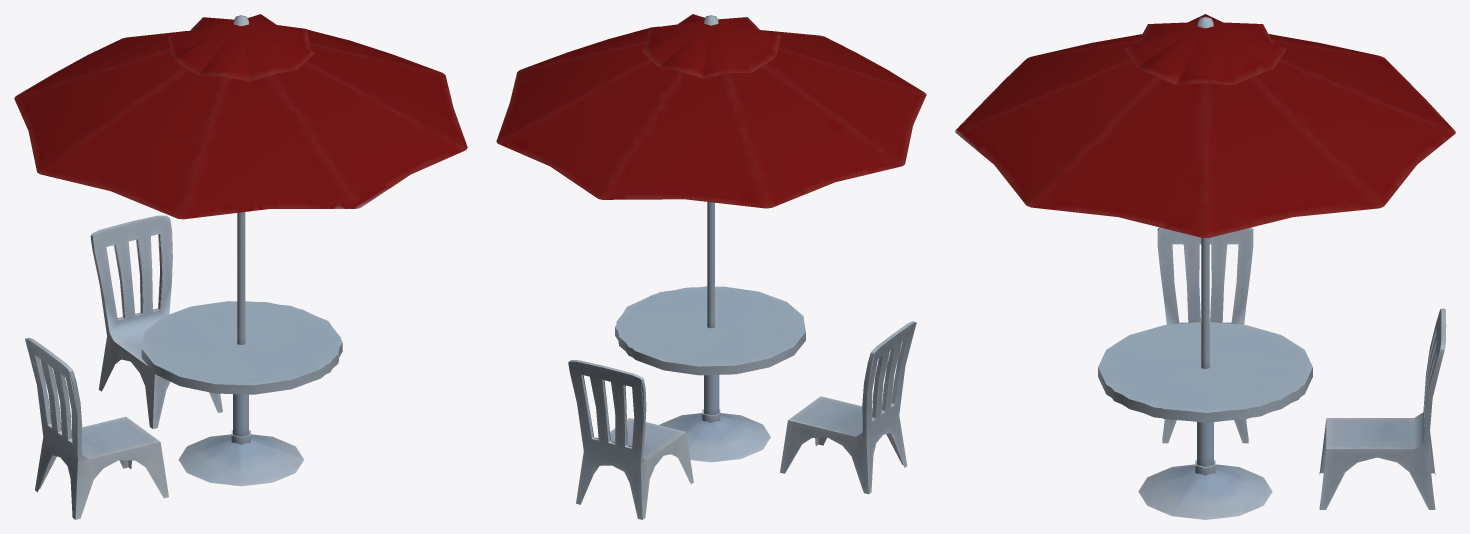
The model's file is objects_un_dlc2_table01.gltf.
The picture shows the model from 3 angles, left to right: view 1: azimuth 30°, elevation 25°; view 2: azimuth 150°, elevation 25°; view 3: azimuth 270°, elevation 25°; orthographic projection. The views are drawn at different scales.
Visible parts, largest first — view 1: um_objects_un_dlc2_table01_model_lod0Shape:objects_un_dlc2_t (×2), um_objects_un_dlc2_table01_model_lod1Shape:objects_un_dlc2_t (×2), um_objects_un_dlc2_table01_model_lod2Shape:objects_un_dlc2_t; view 2: um_objects_un_dlc2_table01_model_lod0Shape:objects_un_dlc2_t (×2), um_objects_un_dlc2_table01_model_lod1Shape:objects_un_dlc2_t (×2), um_objects_un_dlc2_table01_model_lod2Shape:objects_un_dlc2_t; view 3: um_objects_un_dlc2_table01_model_lod0Shape:objects_un_dlc2_t (×2), um_objects_un_dlc2_table01_model_lod1Shape:objects_un_dlc2_t (×2), um_objects_un_dlc2_table01_model_lod2Shape:objects_un_dlc2_t.
Part boxes in pixels (<box>): um_objects_un_dlc2_table01_model_lod0Shape:objects_un_dlc2_t (×2): <box>14,14,467,519</box>; um_objects_un_dlc2_table01_model_lod1Shape:objects_un_dlc2_t (×2): <box>15,80,464,519</box>; um_objects_un_dlc2_table01_model_lod2Shape:objects_un_dlc2_t: <box>25,212,245,461</box>; um_objects_un_dlc2_table01_model_lod0Shape:objects_un_dlc2_t (×2): <box>496,14,926,519</box>; um_objects_un_dlc2_table01_model_lod1Shape:objects_un_dlc2_t (×2): <box>501,78,925,519</box>; um_objects_un_dlc2_table01_model_lod2Shape:objects_un_dlc2_t: <box>569,202,916,464</box>; um_objects_un_dlc2_table01_model_lod0Shape:objects_un_dlc2_t (×2): <box>955,14,1455,509</box>; um_objects_un_dlc2_table01_model_lod1Shape:objects_un_dlc2_t (×2): <box>956,133,1453,519</box>; um_objects_un_dlc2_table01_model_lod2Shape:objects_un_dlc2_t: <box>1160,231,1443,422</box>.
Bounding box in the file's own units: 2.73 × 2.86 × 2.73.
2 materials, 2 textured.
